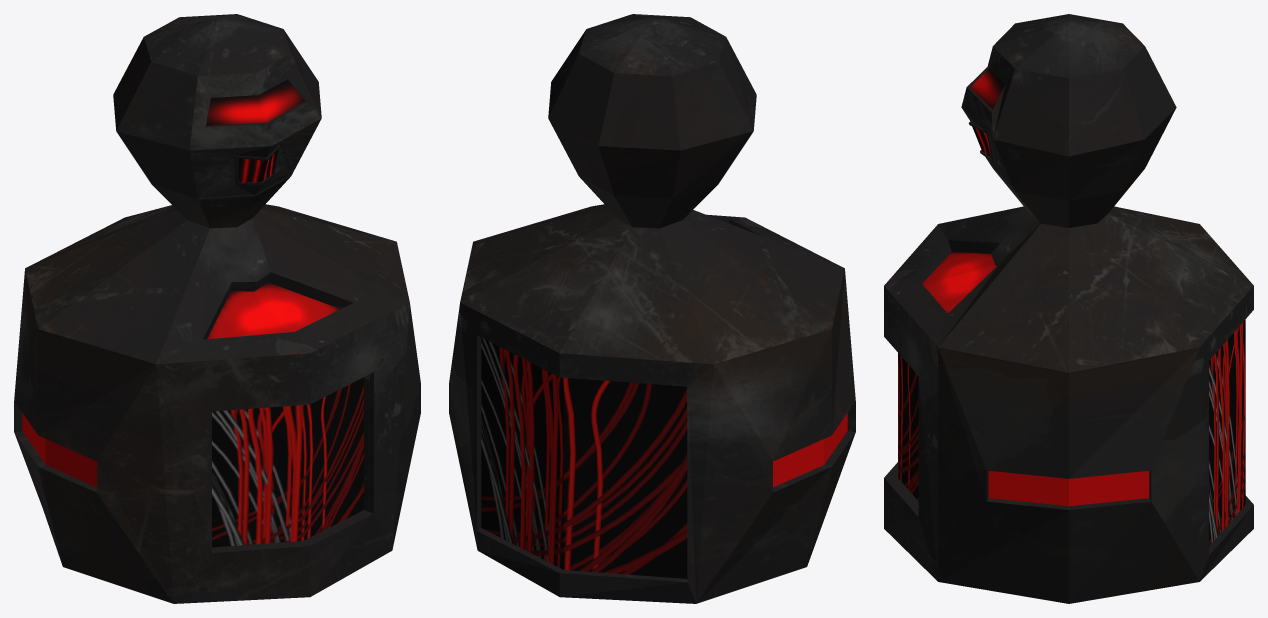
The model's file is GB_GENBOT.fbx.
The picture shows the model from 3 angles, left to right: view 1: azimuth 30°, elevation 25°; view 2: azimuth 150°, elevation 25°; view 3: azimuth 270°, elevation 25°; orthographic projection.
Visible parts, largest first — view 1: Sphere; view 2: Sphere; view 3: Sphere.
Part boxes in pixels (box(x1,y1,x2,y2)): Sphere: box(14, 14, 420, 603); Sphere: box(449, 14, 855, 603); Sphere: box(884, 14, 1253, 603).
Bounding box in the file's own units: 129 × 175 × 115.
